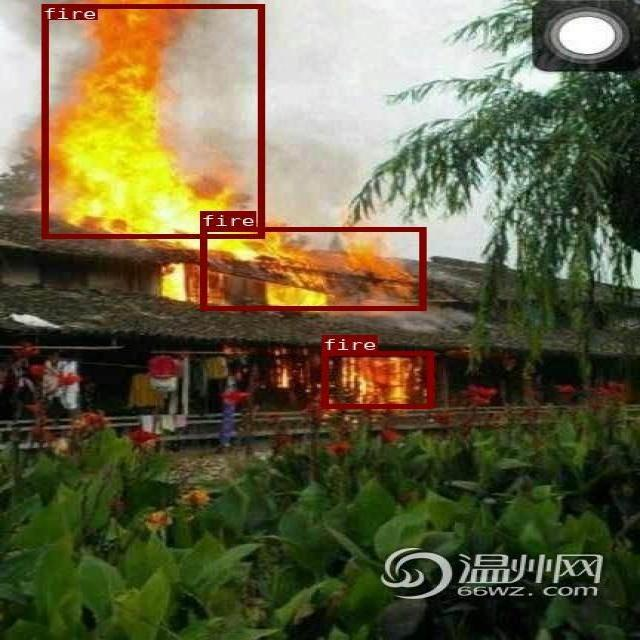fire: (41, 4, 264, 237), (199, 227, 425, 310), (322, 351, 433, 408)
